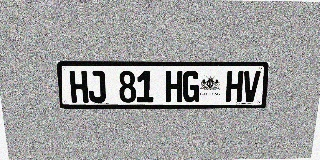1: (136, 71, 153, 102)
8: (119, 71, 136, 103)
G: (182, 71, 200, 102)
H: (69, 71, 89, 103), (225, 71, 244, 102), (165, 71, 183, 102)
J: (87, 71, 106, 103)
V: (242, 71, 261, 102)
